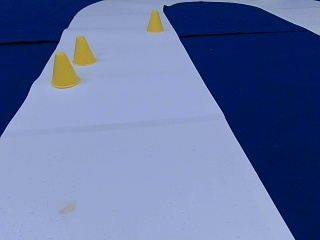cone: (50, 53, 79, 87), (72, 36, 96, 65), (147, 10, 162, 32)
